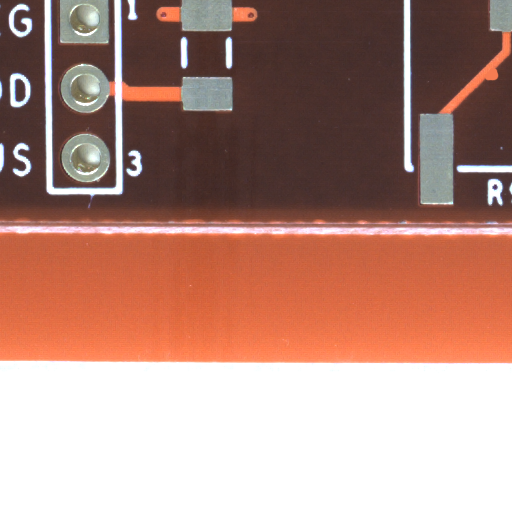Spur: (490, 74, 505, 86)
